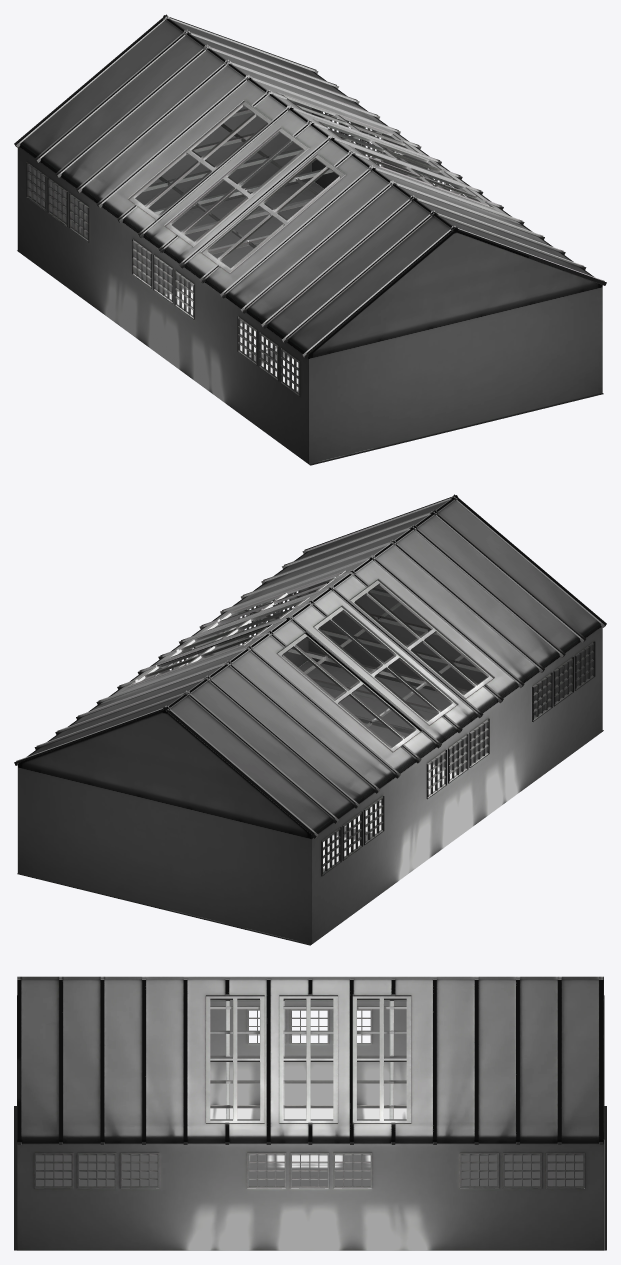
Rendered from warehouseJoined-transformed.glb.
3 views of the same model, one above another, from view 1: azimuth 30°, elevation 25°; view 2: azimuth 150°, elevation 25°; view 3: azimuth 270°, elevation 25° (orthographic).
Parts seen in each view (by area): view 1: roof, structure; view 2: roof, structure; view 3: roof, structure.
Part boxes in pixels (x1,y1,x2,y2): roof: (14, 14, 606, 396); structure: (17, 102, 603, 465); roof: (14, 494, 606, 876); structure: (17, 581, 603, 945); roof: (17, 976, 603, 1188); structure: (14, 995, 606, 1250).
Size of the model in its own units: 21.98 by 13.98 by 36.97.
Materials: 2 (2 with a texture image).
